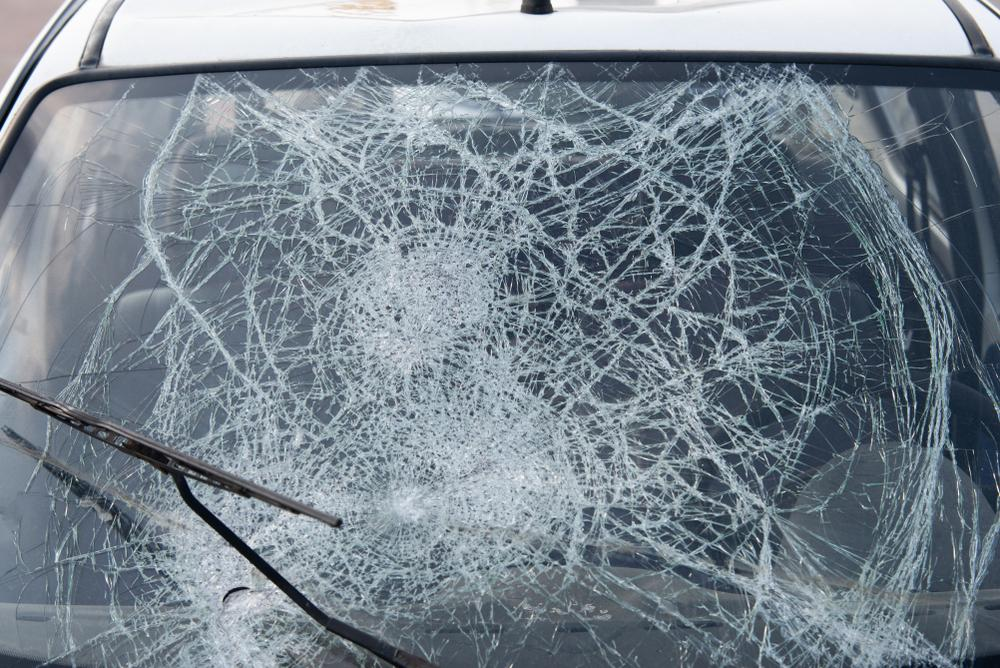glass shatter: (0, 58, 1000, 668)
